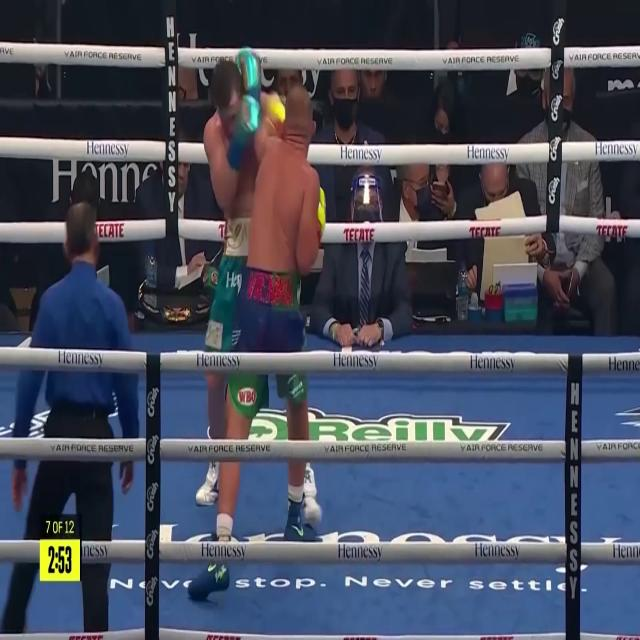boxer_1: (248, 86, 315, 271)
boxer_2: (214, 62, 241, 136), (231, 159, 258, 217)
gloves_1: (263, 95, 285, 139), (317, 187, 326, 240)
gloves_2: (229, 51, 262, 172)
